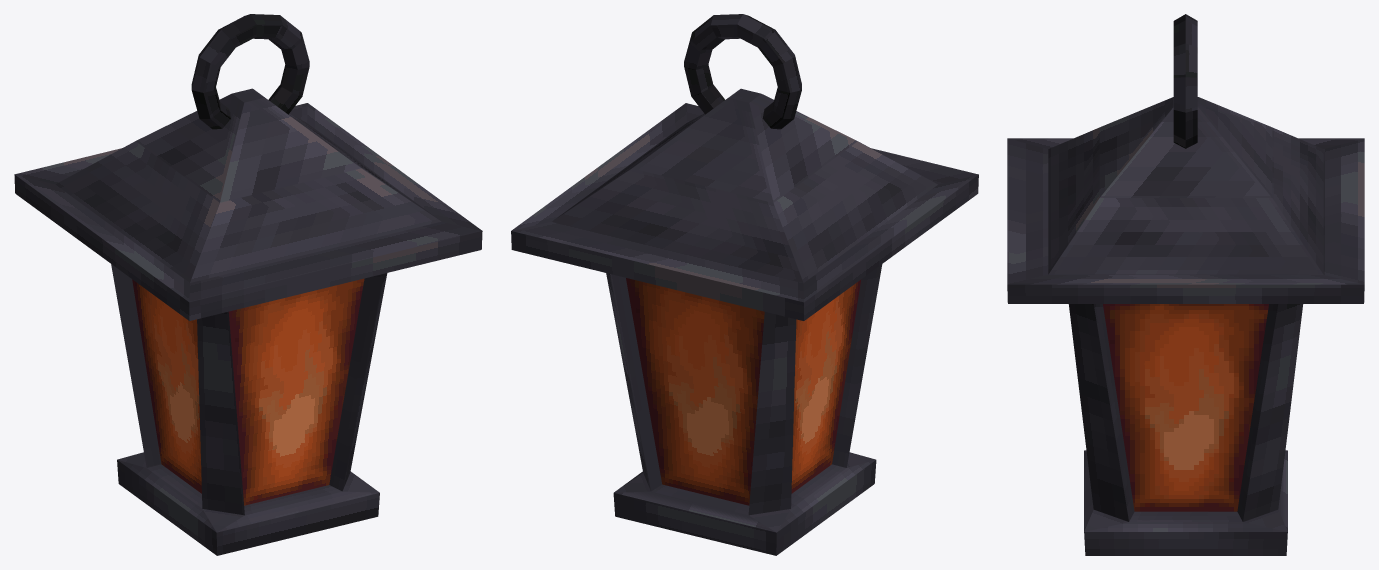
File: tavern_lantern.glb
3 renders of one model, left to right at view 1: azimuth 30°, elevation 25°; view 2: azimuth 150°, elevation 25°; view 3: azimuth 270°, elevation 25°, orthographic. The views are drawn at different scales.
Parts seen in each view (by area): view 1: tavern_lantern; view 2: tavern_lantern; view 3: tavern_lantern.
Boxes of the visible parts, x1=… form: tavern_lantern: x1=14, y1=14, x2=482, y2=555; tavern_lantern: x1=511, y1=14, x2=978, y2=555; tavern_lantern: x1=1007, y1=14, x2=1364, y2=555.
Size of the model in its own units: 0.4361 by 0.6905 by 0.4504.
1 material, 1 textured.
